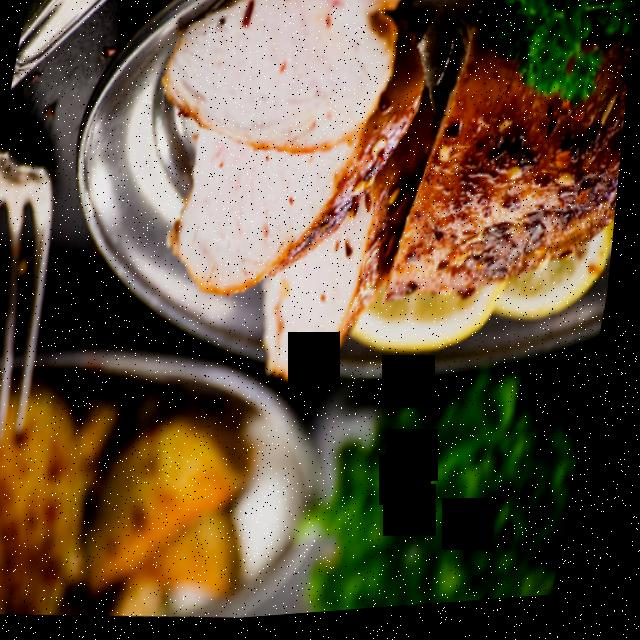Frango: (110, 0, 640, 427)
